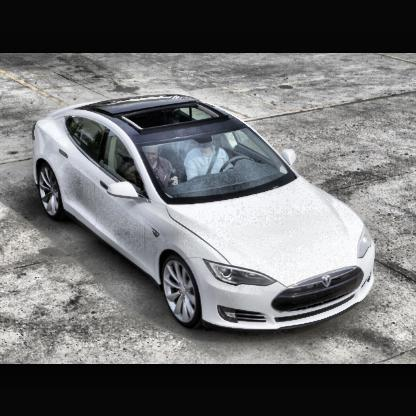Tesla Model S Sedan 2012: (33, 93, 377, 334)
